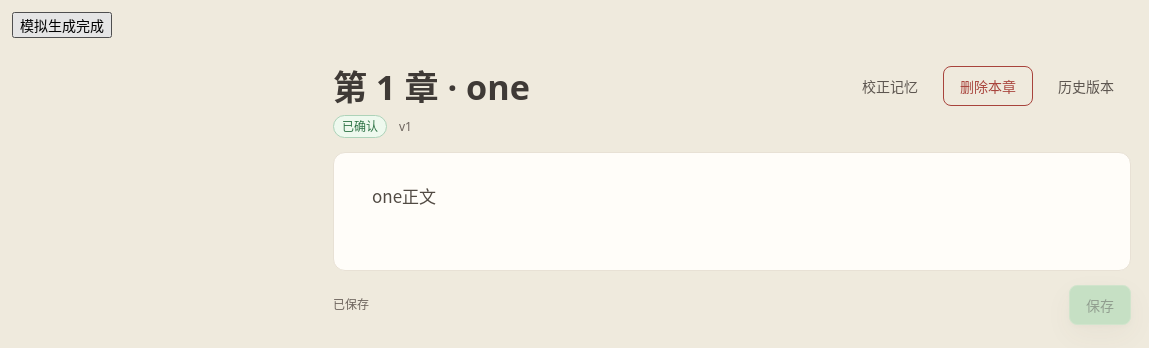
Test: 章节编辑的草稿和版本保护 › 保存过程中继续输入，不会把新文字误标为已保存
This screenshot has width=1149, height=348.
Replace the text in the text box named "章节正文" with "第一次提交" at [732, 212], box x1=333 y1=152 x2=1131 y2=271
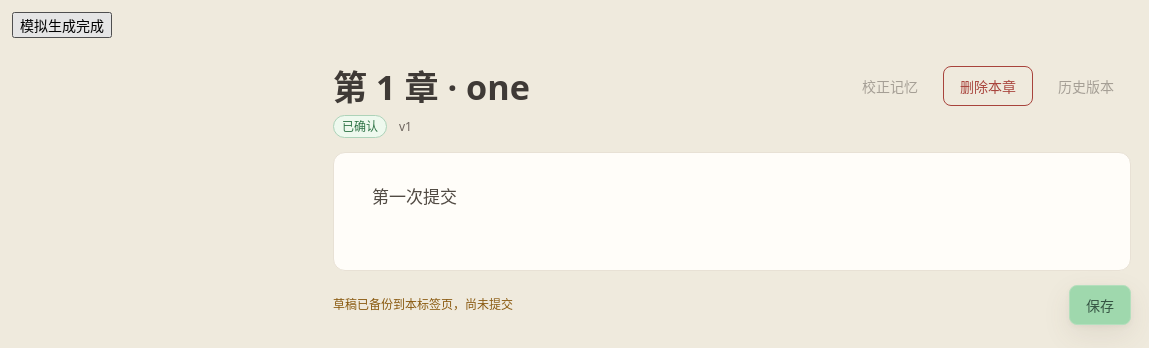
Click the button "保存" at [1100, 305], box x1=1069 y1=285 x2=1131 y2=325
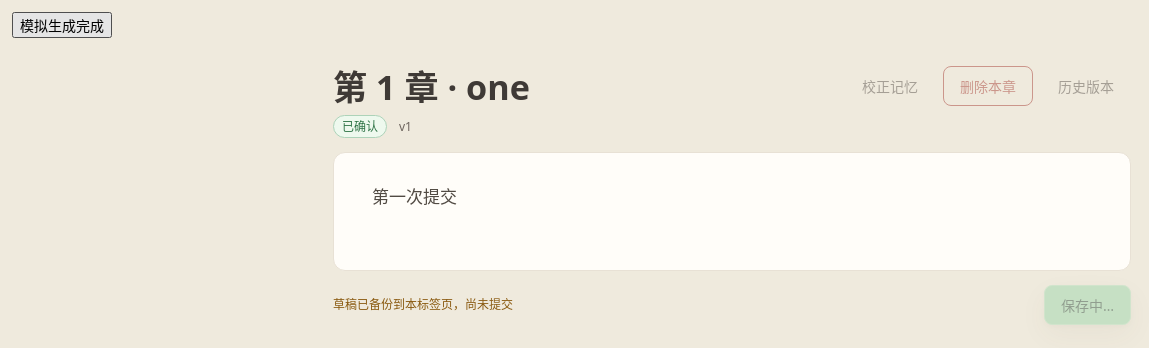
Replace the text in the text box named "章节正文" with "提交后继续输入" at [732, 212], box x1=333 y1=152 x2=1131 y2=271
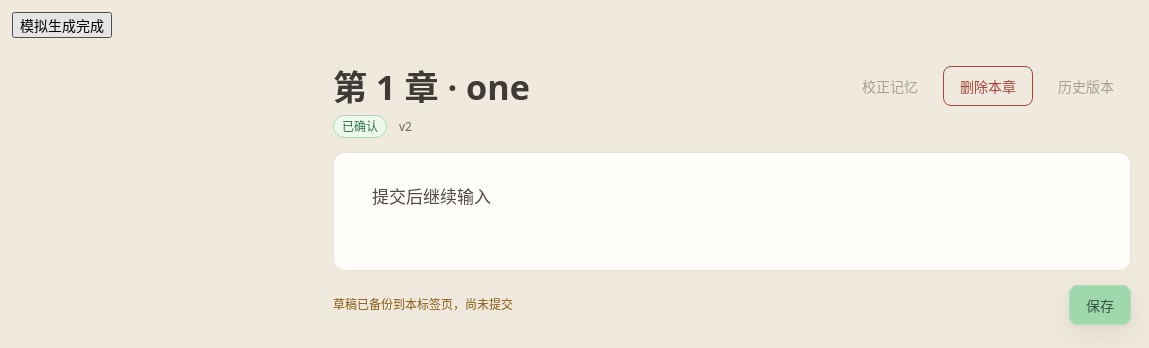
Expected: the text "草稿已备份到本标签页，尚未提交" is shown, x1=333 y1=296 x2=513 y2=314
Click the button "保存" at [1100, 305], box x1=1069 y1=285 x2=1131 y2=325
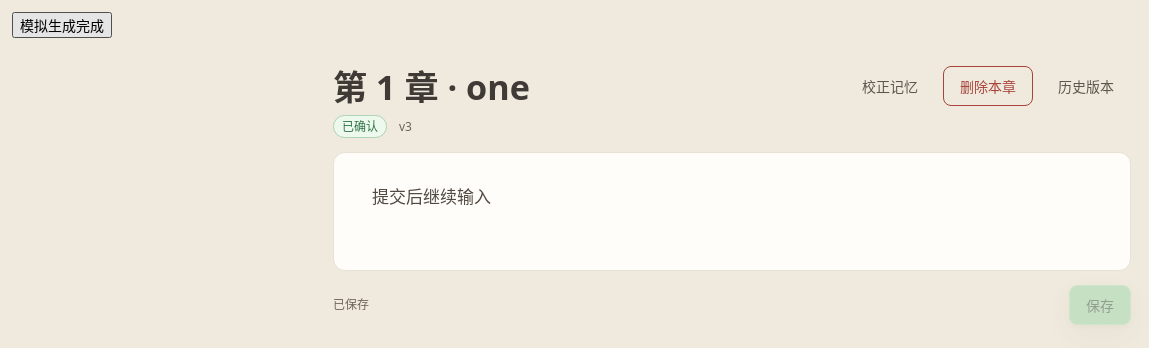
Expected: the text "已保存" is shown, x1=333 y1=296 x2=369 y2=314
